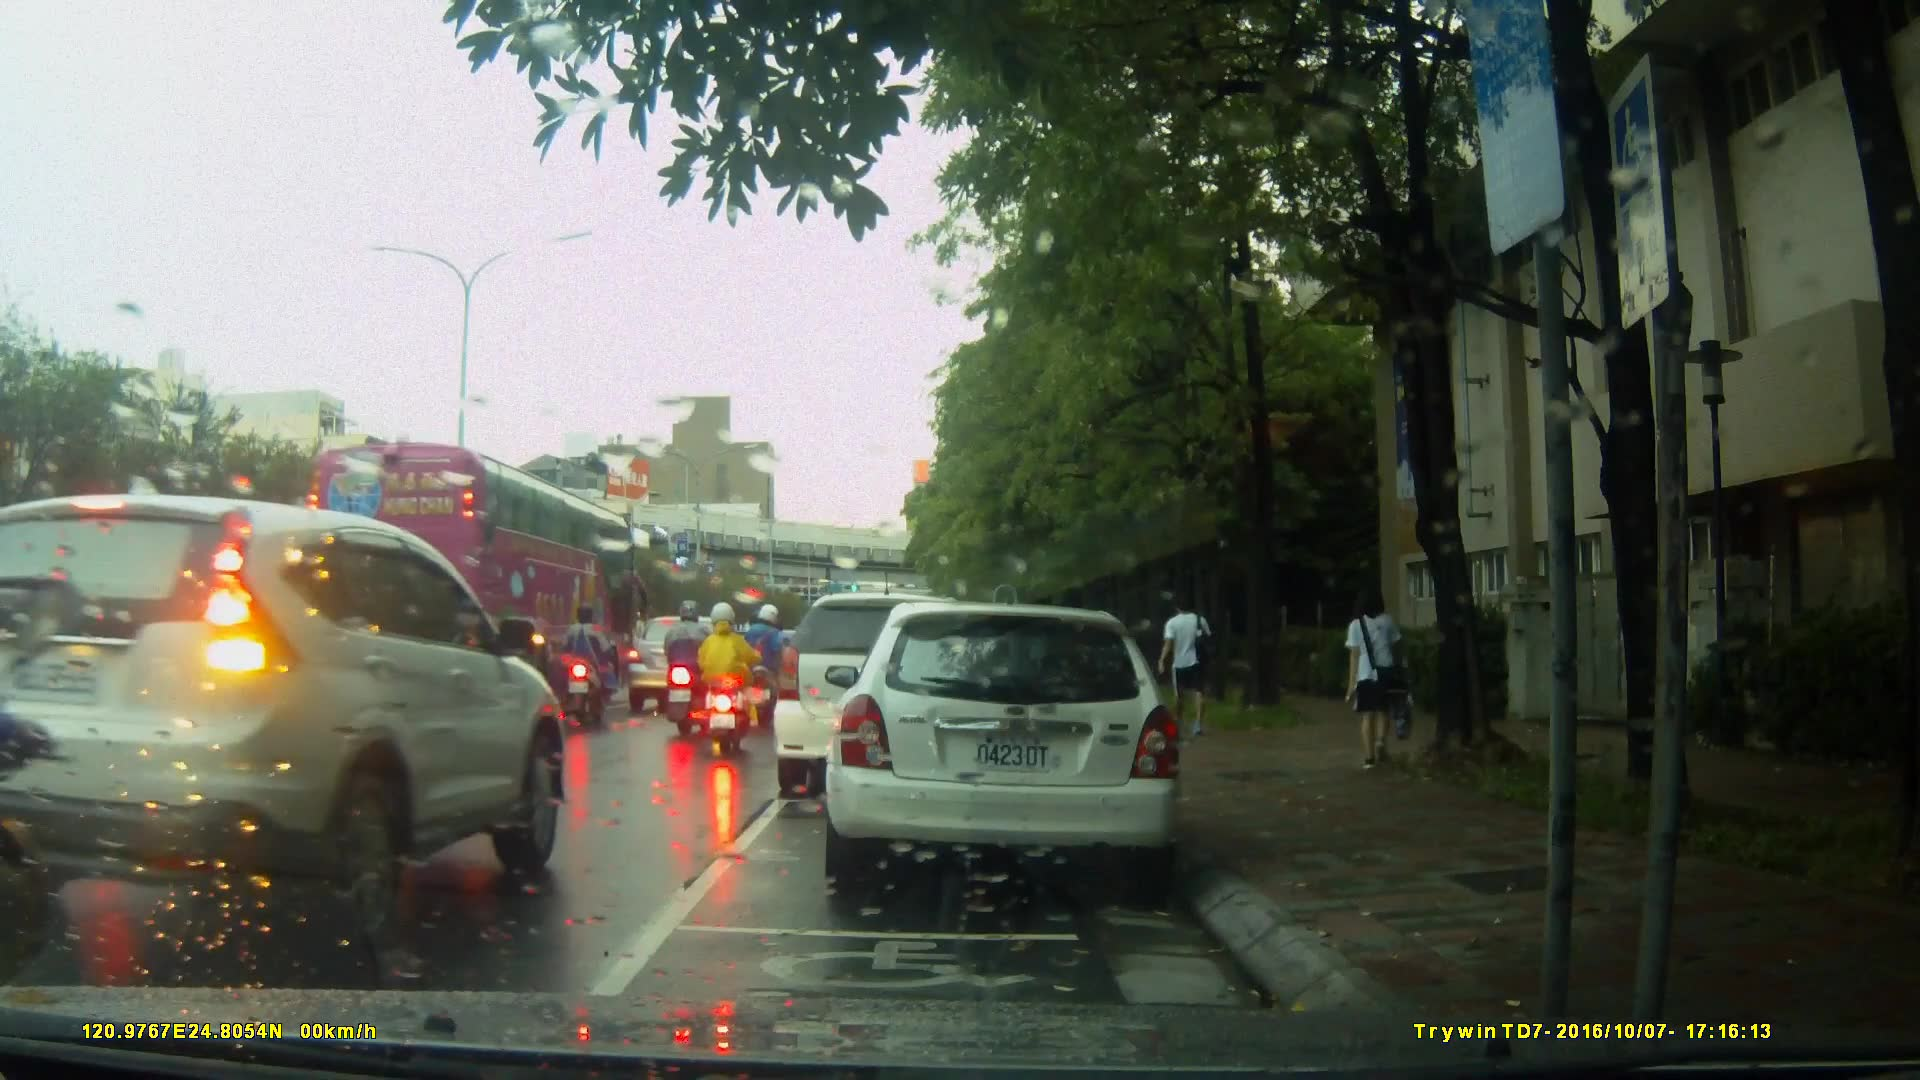pedestrian: (1337, 581, 1422, 785), (1157, 587, 1210, 734)
rider: (693, 601, 752, 756), (656, 594, 710, 735), (558, 605, 620, 720), (739, 605, 795, 721)
vehicle: (3, 486, 568, 972), (835, 594, 1194, 898), (293, 442, 644, 702), (776, 590, 1026, 784), (625, 615, 743, 707)
